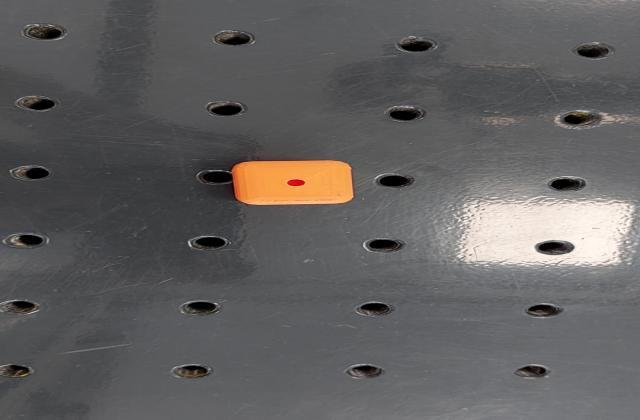cube: (224, 159, 362, 209)
